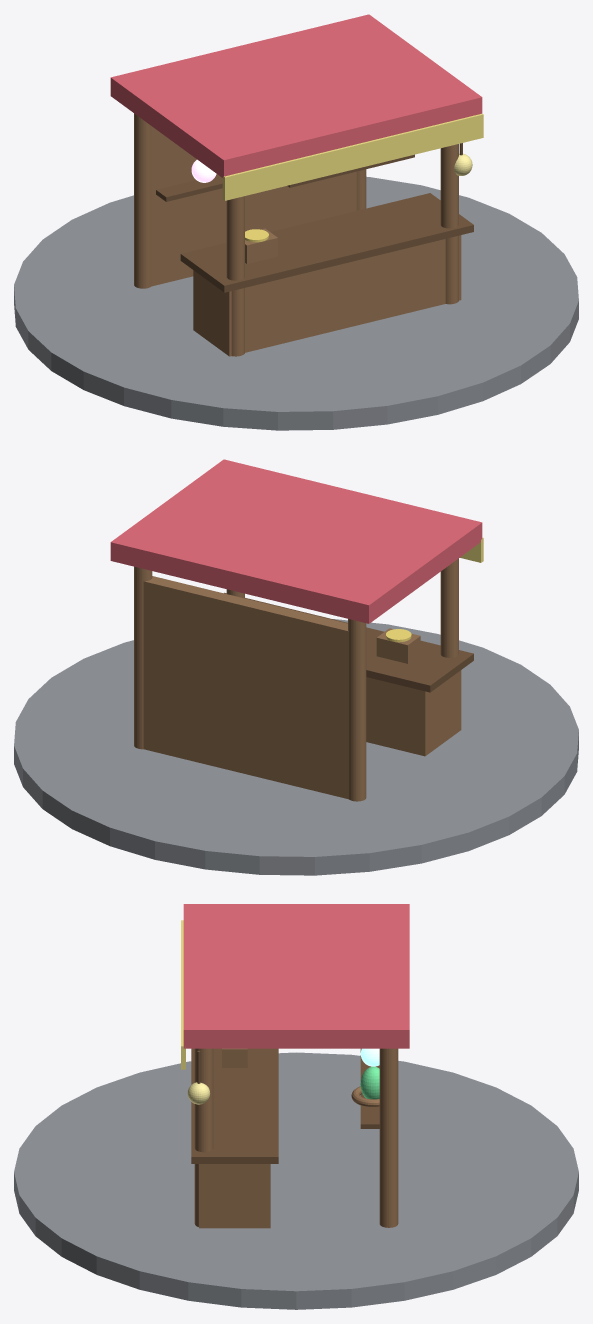
The model's file is Tienda_Pabellon_Deluxe.fbx.
The picture shows the model from 3 angles, top to bottom: view 1: azimuth 30°, elevation 25°; view 2: azimuth 150°, elevation 25°; view 3: azimuth 270°, elevation 25°; orthographic projection.
Parts seen in each view (by area): view 1: Cylinder, Cube.006, Cube, Cube.002, Cube.001, Cube.007, Cylinder.003, Cylinder.001, Cylinder.002, Cube.003, Cube.004; view 2: Cylinder, Cube.002, Cube.006, Cube, Cube.001, Cylinder.003, Cylinder.004, Cylinder.001, Cube.004; view 3: Cylinder, Cube.006, Cube.001, Cube, Cylinder.004, Cylinder.002, Cube.003, Sphere.002, Cube.004.
Boxes of the visible parts, <box> form: Cylinder: <box>14,176,578,430</box>; Cube.006: <box>110,14,482,178</box>; Cube: <box>193,235,461,356</box>; Cube.002: <box>151,126,356,286</box>; Cube.001: <box>180,193,473,292</box>; Cube.007: <box>222,113,483,200</box>; Cylinder.003: <box>134,113,151,288</box>; Cylinder.001: <box>226,196,244,356</box>; Cylinder.002: <box>440,144,458,304</box>; Cube.003: <box>156,174,222,201</box>; Cube.004: <box>245,228,277,263</box>; Cylinder: <box>14,619,578,875</box>; Cube.002: <box>143,576,348,799</box>; Cube.006: <box>110,459,482,623</box>; Cube: <box>366,670,461,756</box>; Cube.001: <box>224,592,473,692</box>; Cylinder.003: <box>348,619,366,801</box>; Cylinder.004: <box>134,566,152,749</box>; Cylinder.001: <box>440,558,458,657</box>; Cube.004: <box>376,628,420,663</box>; Cylinder: <box>14,1052,578,1309</box>; Cube.006: <box>183,904,409,1048</box>; Cube.001: <box>191,1048,278,1163</box>; Cube: <box>199,1164,270,1228</box>; Cylinder.004: <box>379,1048,398,1227</box>; Cylinder.002: <box>194,1048,213,1226</box>; Cube.003: <box>360,1048,379,1128</box>; Sphere.002: <box>360,1066,379,1099</box>; Cube.004: <box>222,1048,247,1067</box>.
Size of the model in its own units: 1100 by 480 by 1100.
